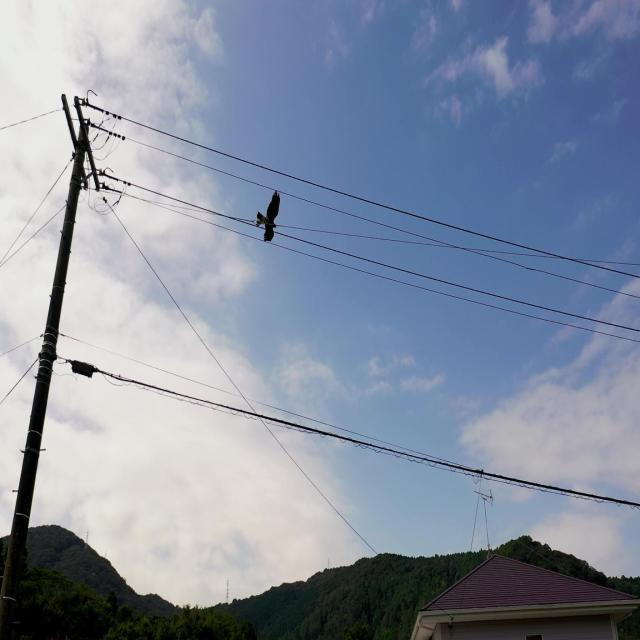Birds: (252, 183, 286, 248)
